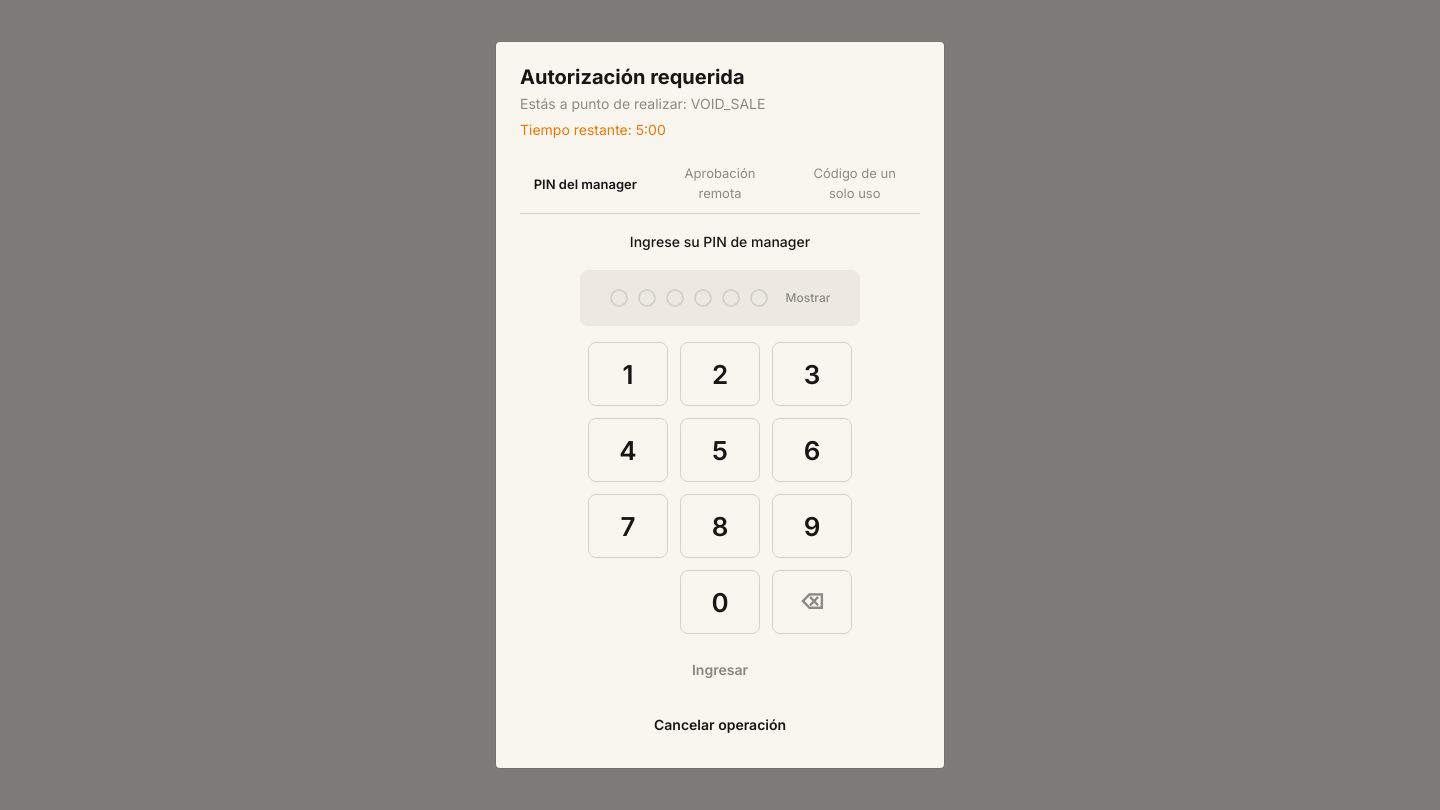
StepUpModal › PIN verification › shows an error when PIN verification fails
Click the button "1" at point(628, 374), box [588, 342, 668, 406]
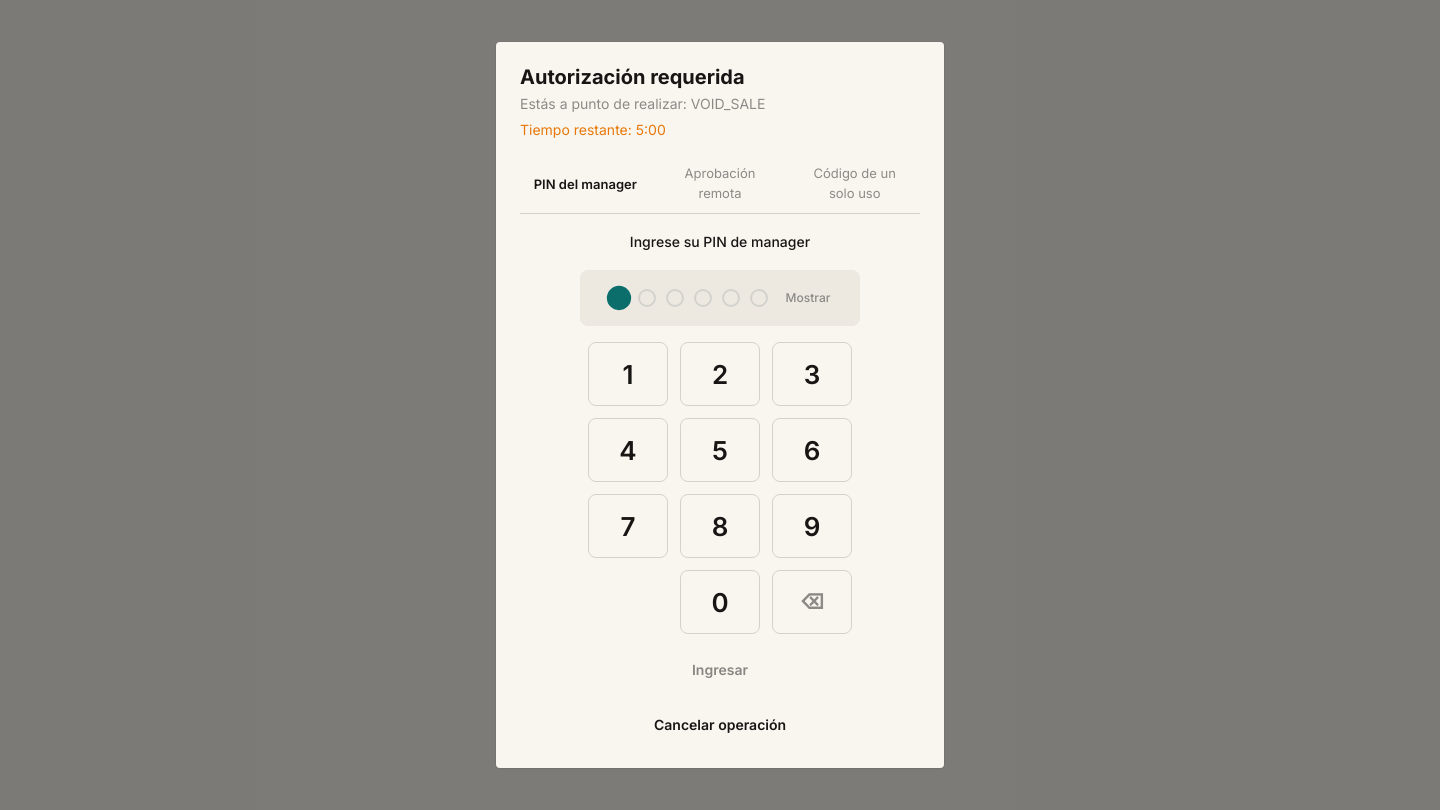
Click the button "2" at point(720, 374), box [680, 342, 760, 406]
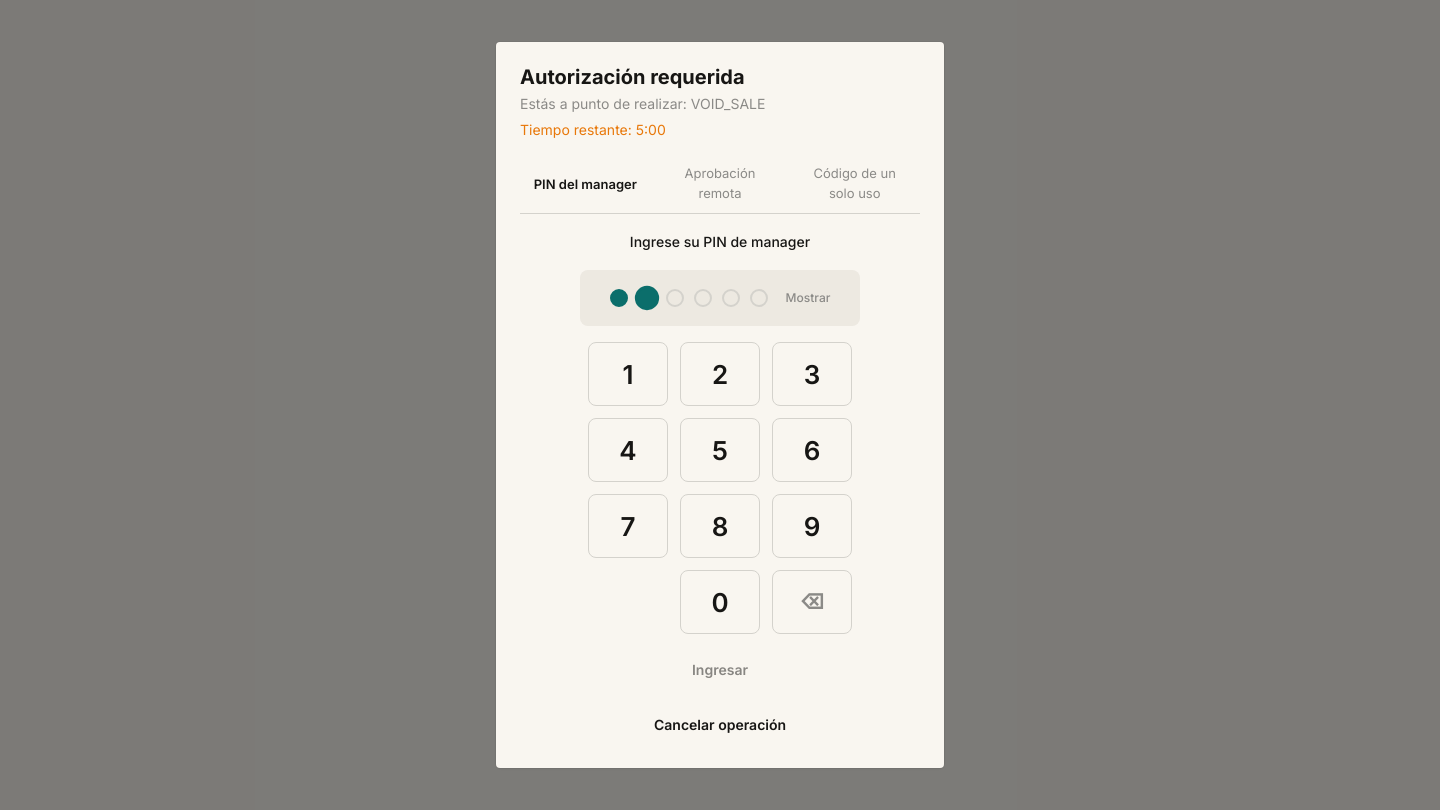
Click the button "3" at point(812, 374), box [772, 342, 852, 406]
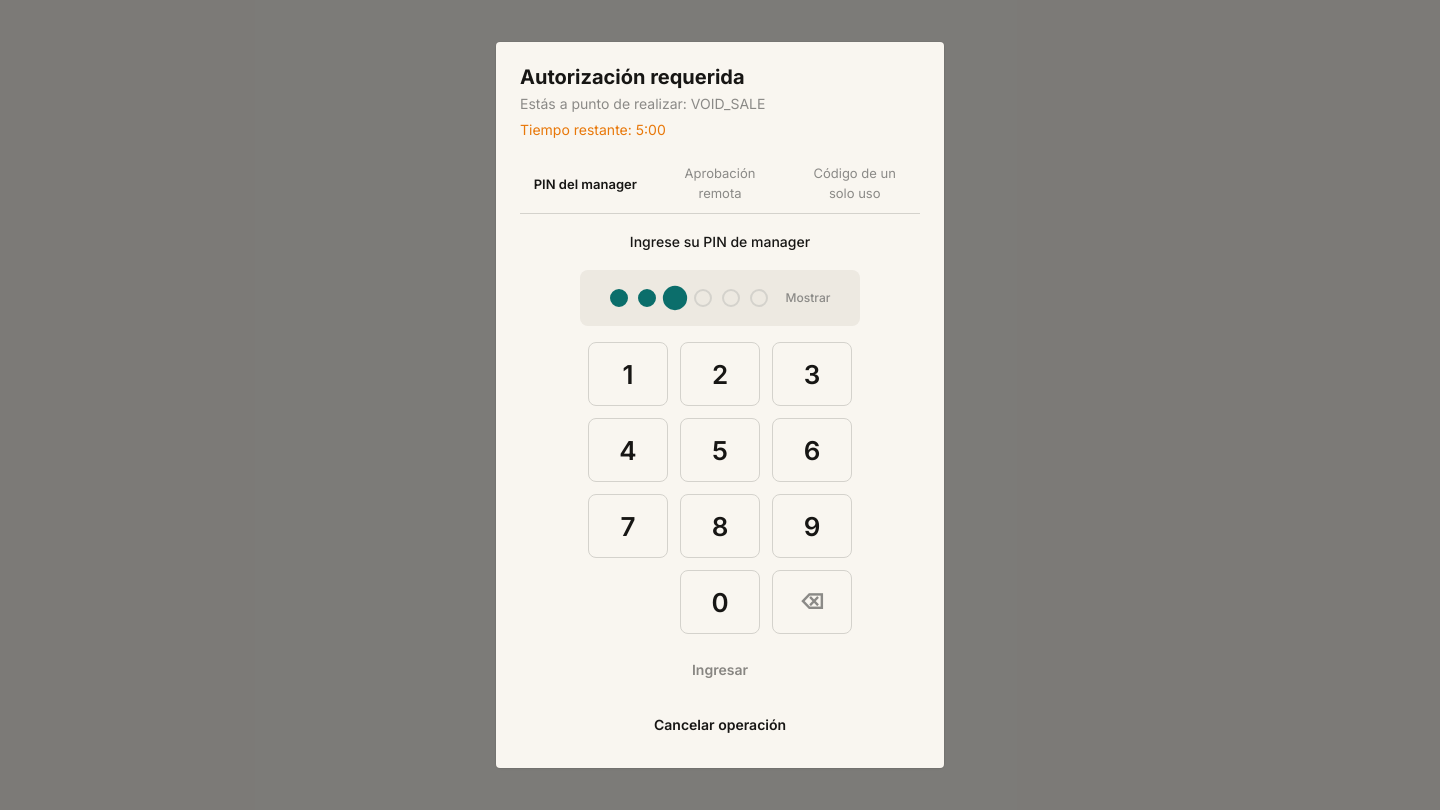
Click the button "4" at point(628, 450), box [588, 418, 668, 482]
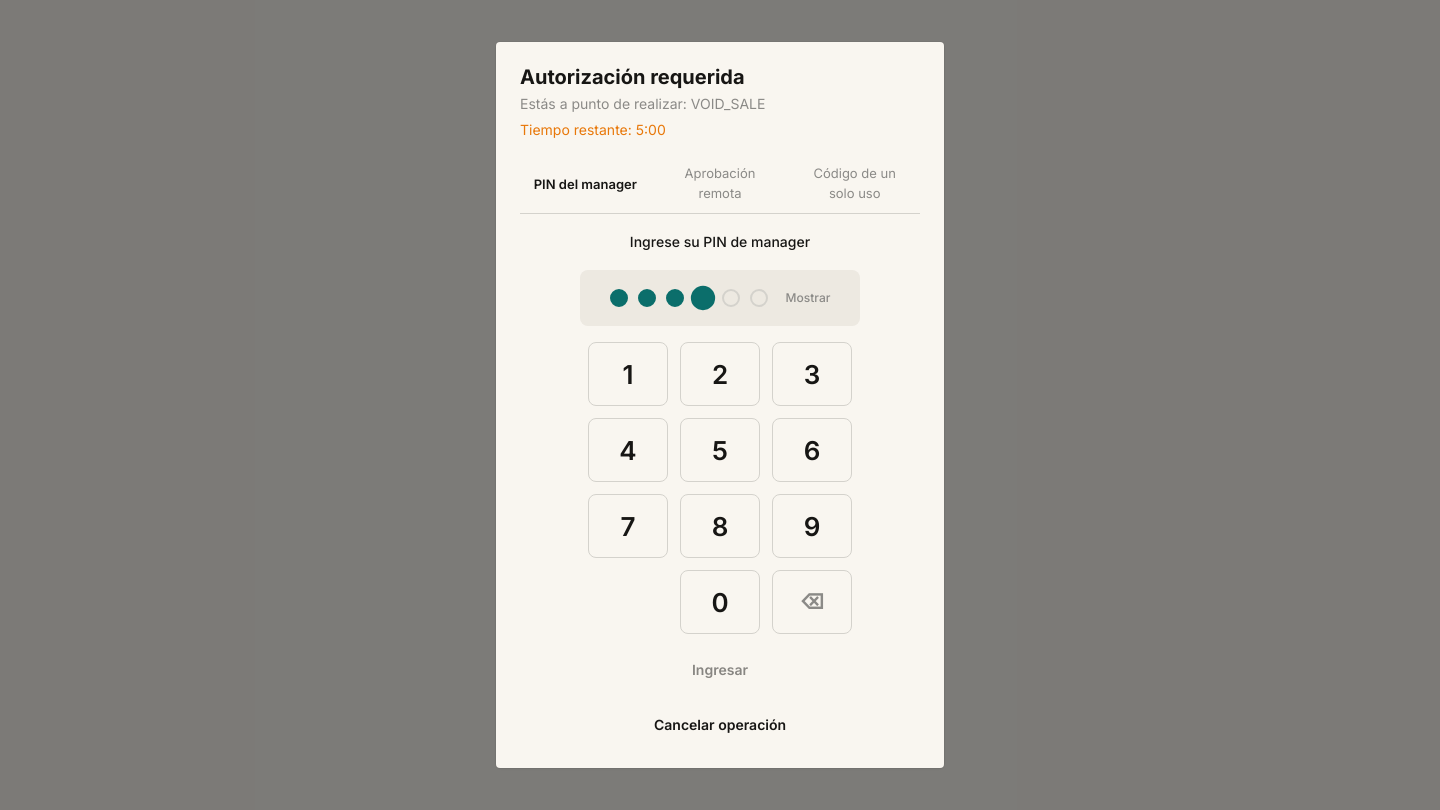
Click the button "5" at point(720, 450), box [680, 418, 760, 482]
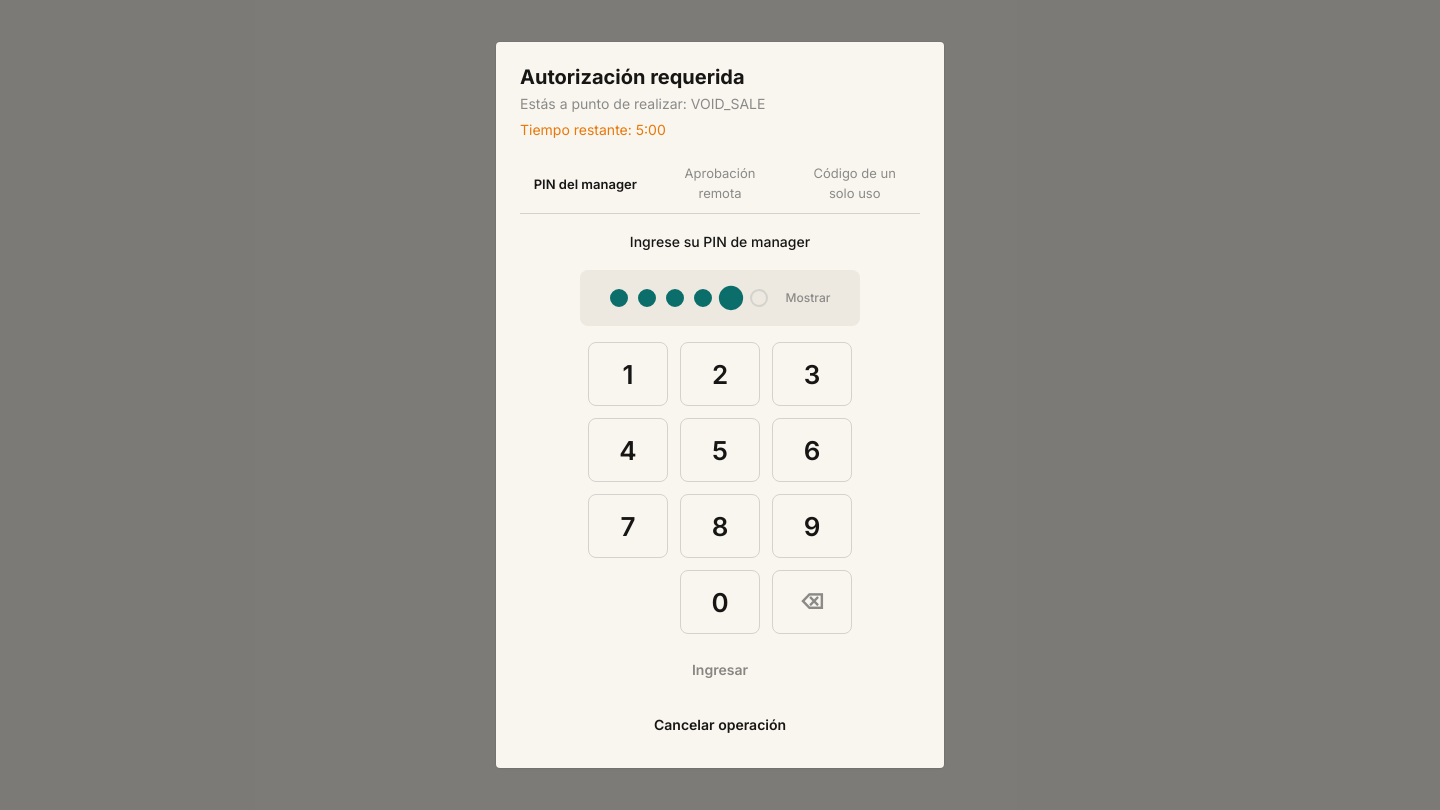
Click the button "6" at point(812, 450), box [772, 418, 852, 482]
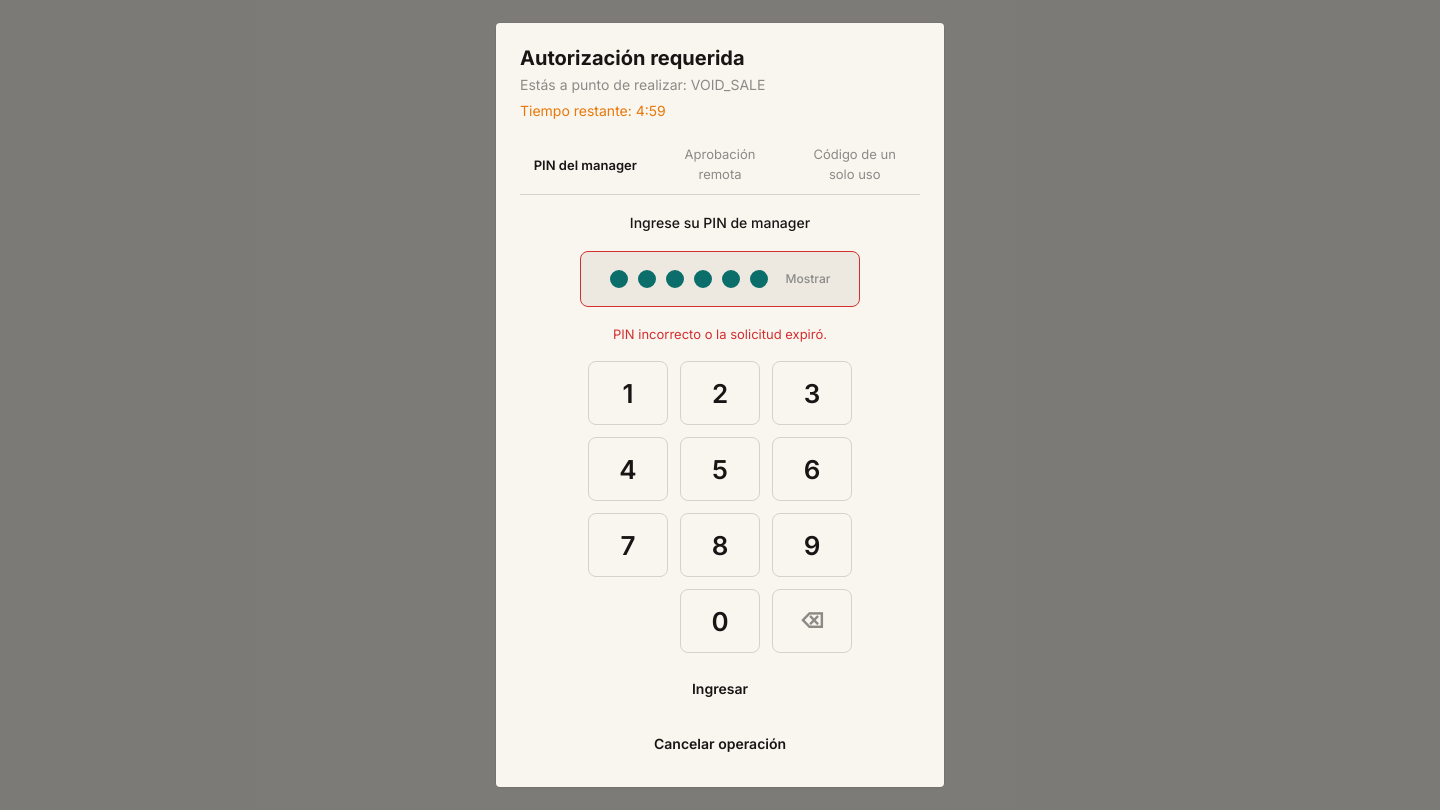
Check: the text "PIN incorrecto o la solicitud expiró." is shown, box [613, 323, 827, 345]
